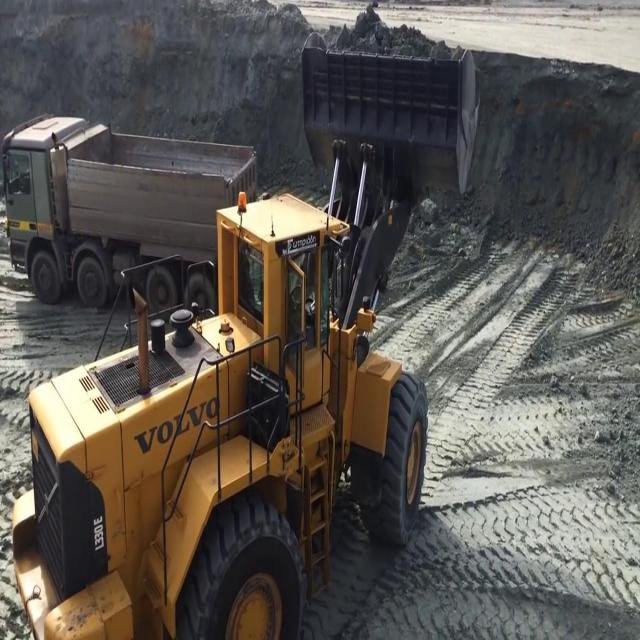Dump Truck: (0, 112, 258, 322)
Loader: (9, 29, 481, 639)
